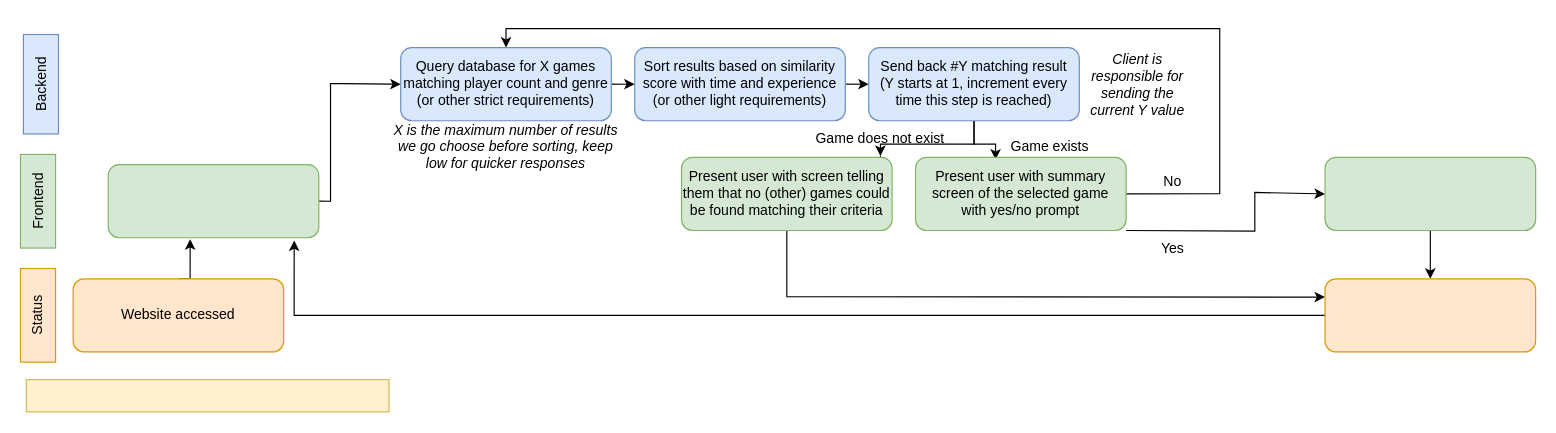
Some shapes in this 1556 by 433 pixel diagram are drawn without their labels. The shapes that lost their labels are listed below. From the top down, each one's centre as x and y in pixels, then its label:
(x=213, y=200): Prompt user (genre, player count, time, experience)
(x=1430, y=193): Present user with purchase/further info screen and "restart" button
(x=1430, y=315): Restart sequence
(x=207, y=395): Note: This implementation is designed to be stateless
